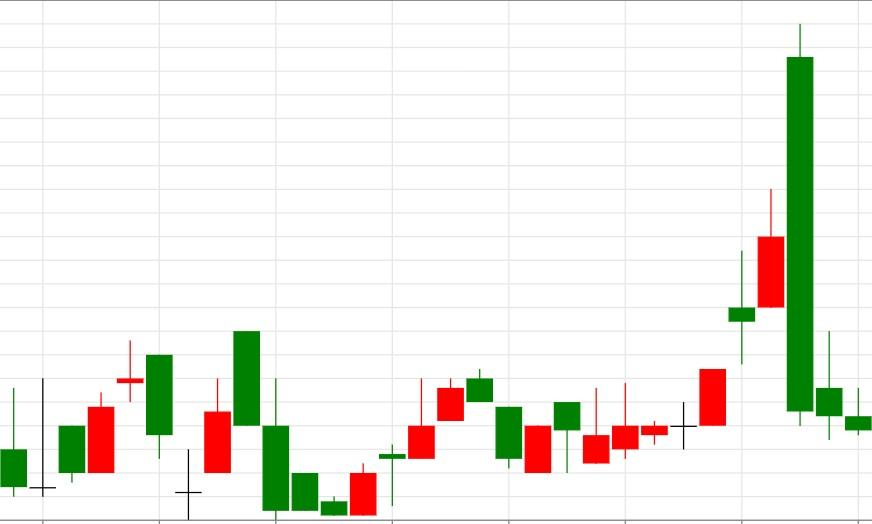bearish_engulfing_fall: (582, 22, 814, 464)
bullish_engulfing_rise: (233, 331, 377, 520)
